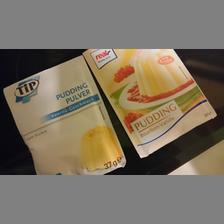cake: (81, 48, 222, 155), (4, 55, 122, 175)
